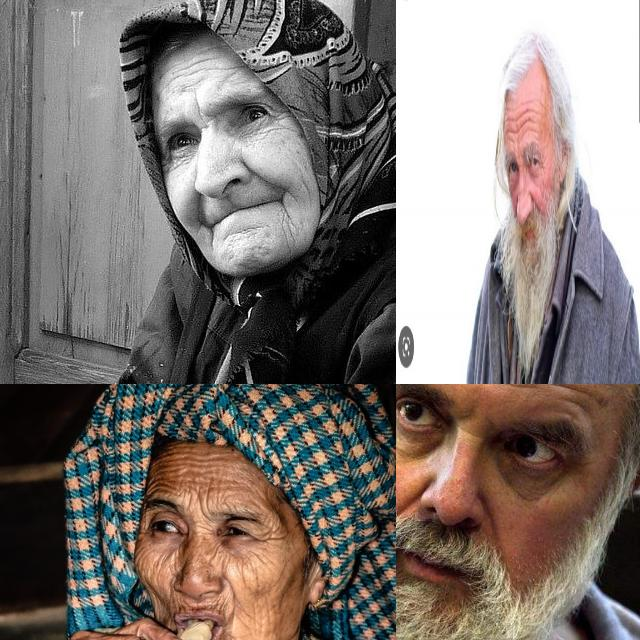bunny_line: (205, 544, 229, 568)
crows_feet: (268, 104, 290, 128), (260, 524, 280, 550)
forehead: (170, 56, 244, 84), (195, 449, 225, 487), (548, 384, 589, 411), (487, 384, 531, 401), (144, 478, 180, 498), (162, 449, 188, 471), (517, 109, 527, 140), (504, 116, 514, 145), (528, 105, 536, 135)
frown_line: (190, 493, 213, 523), (189, 96, 209, 124), (460, 424, 482, 440)
gummy_smile: (239, 156, 277, 192), (184, 188, 204, 224), (398, 482, 422, 511), (222, 578, 240, 606)
masseter: (136, 540, 154, 580)
sad_smile: (274, 202, 296, 242), (199, 222, 219, 250)
smoker_lines: (174, 596, 214, 610)
